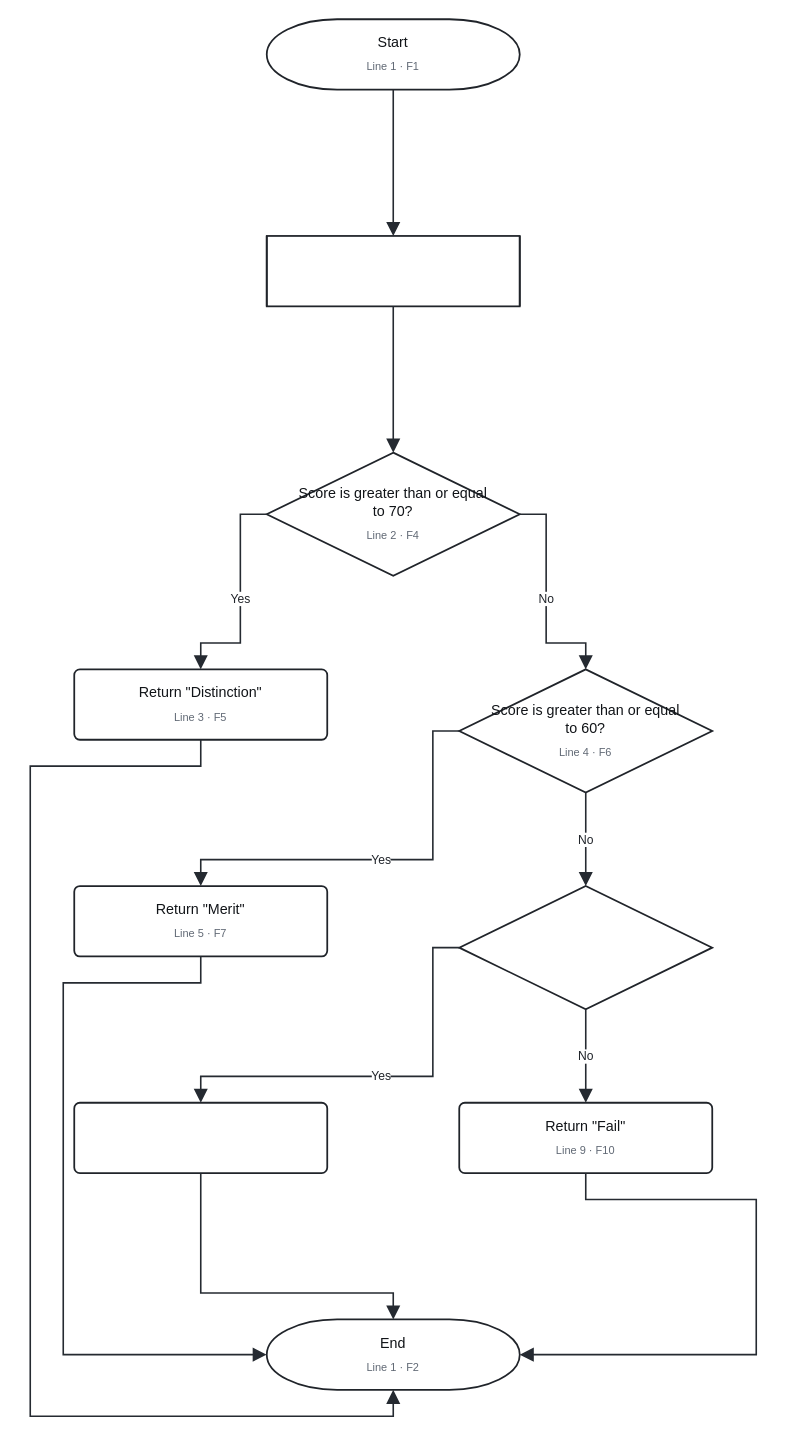
The diagram is 789 pixels wide and 1449 high, and some of its shapes have lost their labels. The shapes that lost their labels are listed below. From the top down, each one's centre as x and y in pixels, then its label:
point 392,271: Run function ConvertScoreToGrade with score Line 1 · F3
point 585,947: Score is greater than or equal to 40? Line 6 · F8
point 200,1137: Return "Pass" Line 7 · F9
